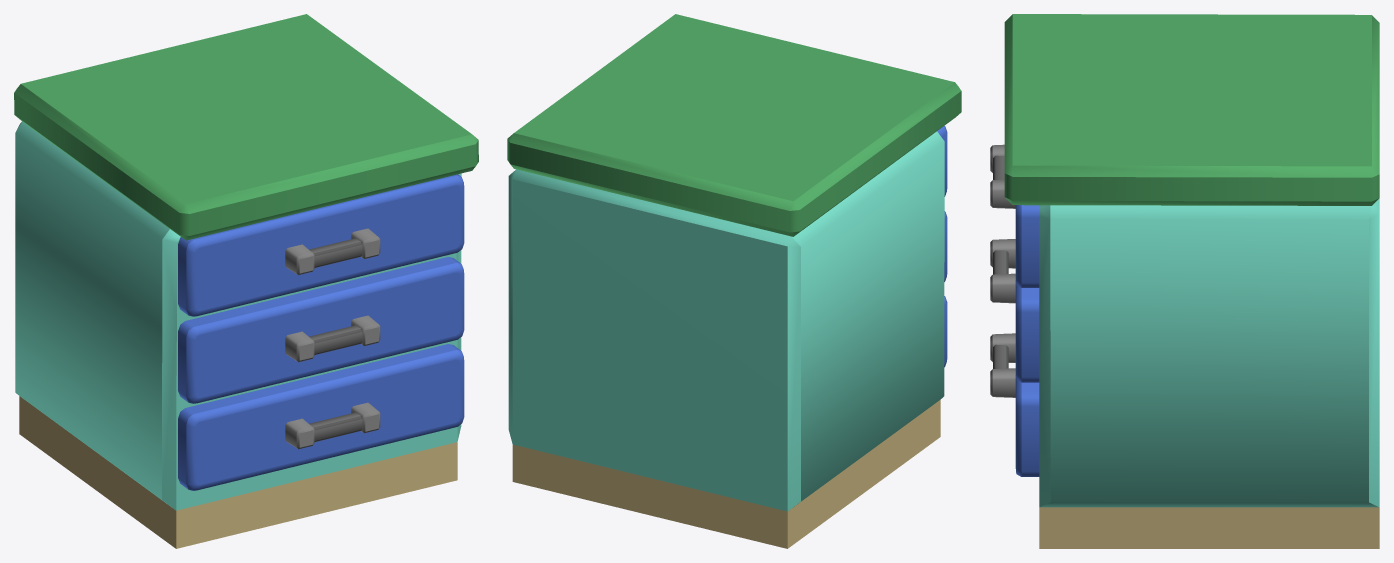
Rendered from Furnit_E_1.glb.
The picture shows the model from 3 angles, left to right: view 1: azimuth 30°, elevation 25°; view 2: azimuth 150°, elevation 25°; view 3: azimuth 270°, elevation 25°; orthographic projection. The views are drawn at different scales.
Visible parts, largest first — view 1: Furnit_E_1; view 2: Furnit_E_1; view 3: Furnit_E_1.
Part boxes in pixels (box(x1,y1,x2,y2)): Furnit_E_1: box(14, 14, 478, 548); Furnit_E_1: box(507, 14, 961, 548); Furnit_E_1: box(990, 14, 1379, 548).
Size of the model in its own units: 0.9 by 1.02 by 0.9348.
Materials: 1 (1 with a texture image).
